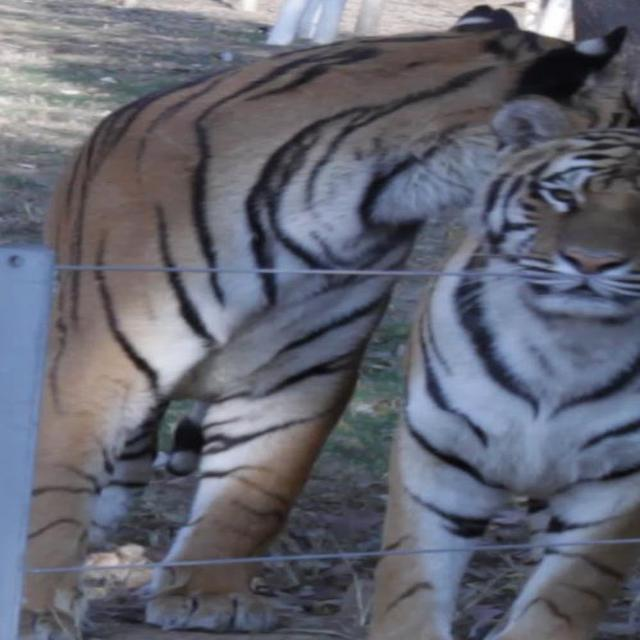tiger: (17, 6, 629, 638), (364, 92, 639, 639)
